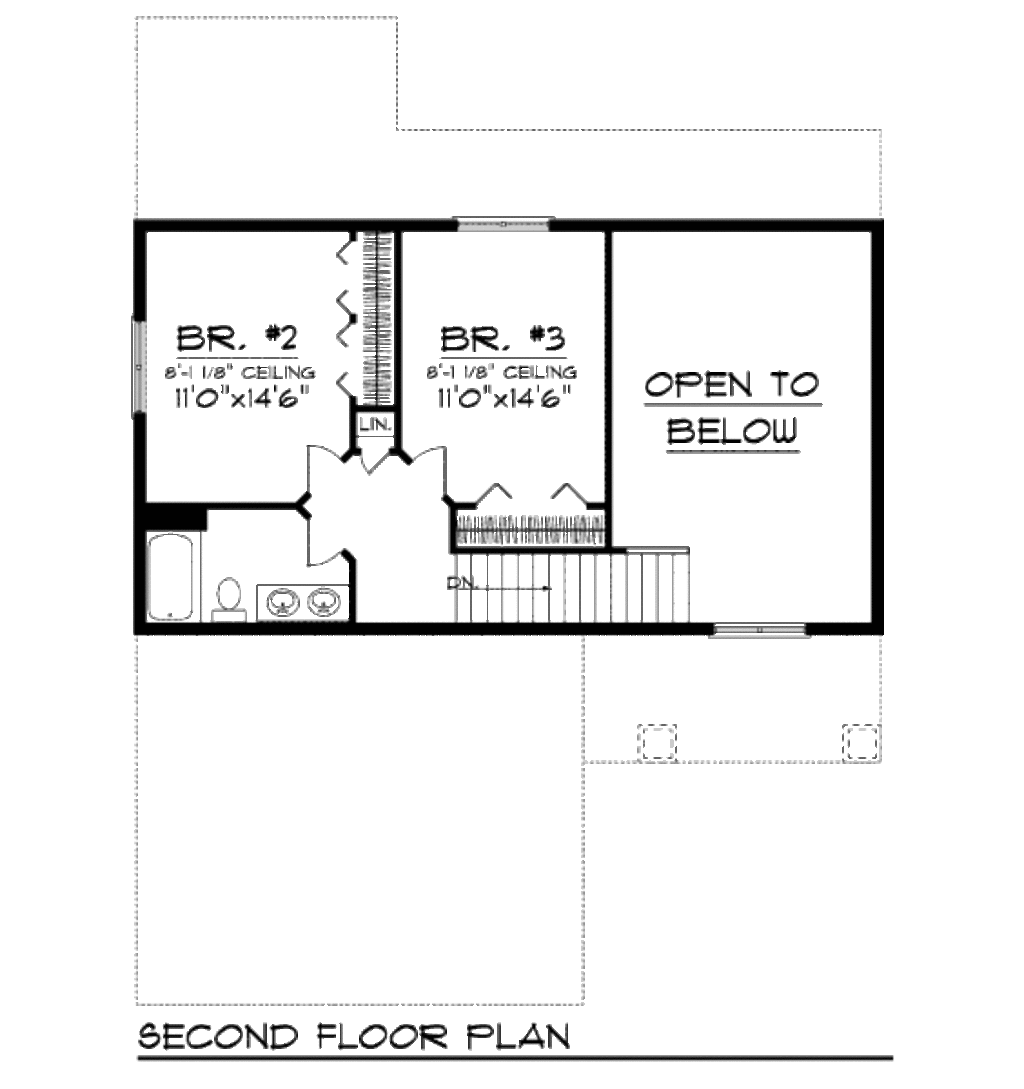large_sink: (208, 570, 247, 633)
small_sink: (257, 580, 347, 624)
stairs: (459, 551, 694, 621)
tub: (143, 533, 192, 626)
window: (711, 619, 813, 646), (452, 211, 559, 236), (130, 323, 148, 412)
